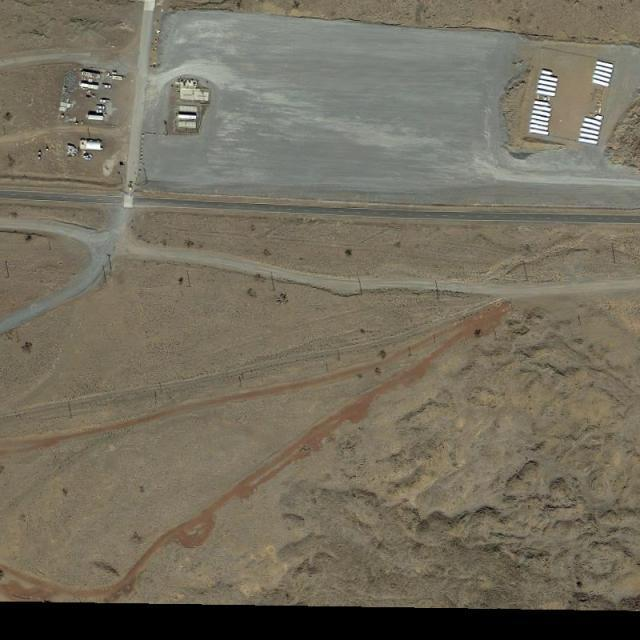vehicle: (100, 98, 111, 104), (95, 105, 106, 110), (104, 84, 111, 89), (97, 109, 103, 113)
